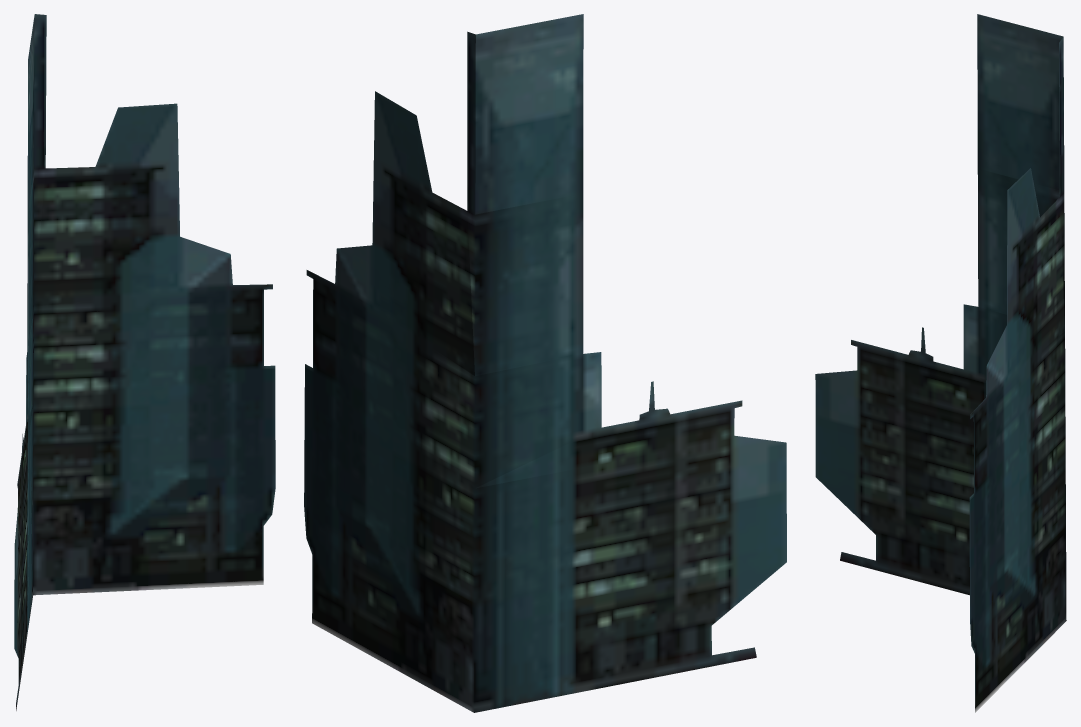
File: site_00.glb
3 views of the same model, side by side, from view 1: azimuth 30°, elevation 25°; view 2: azimuth 150°, elevation 25°; view 3: azimuth 270°, elevation 25° (orthographic). The views are drawn at different scales.
Visible parts, largest first — view 1: CHR_1B.274_mat_95.003_0; view 2: CHR_1B.274_mat_95.003_0; view 3: CHR_1B.274_mat_95.003_0.
Boxes of the visible parts, left/top/right/bottom form: CHR_1B.274_mat_95.003_0: left=14, top=14, right=275, bottom=710; CHR_1B.274_mat_95.003_0: left=304, top=14, right=786, bottom=712; CHR_1B.274_mat_95.003_0: left=815, top=14, right=1066, bottom=712.
Size of the model in its own units: 123 by 204 by 79.
Materials: 1 (1 with a texture image).
